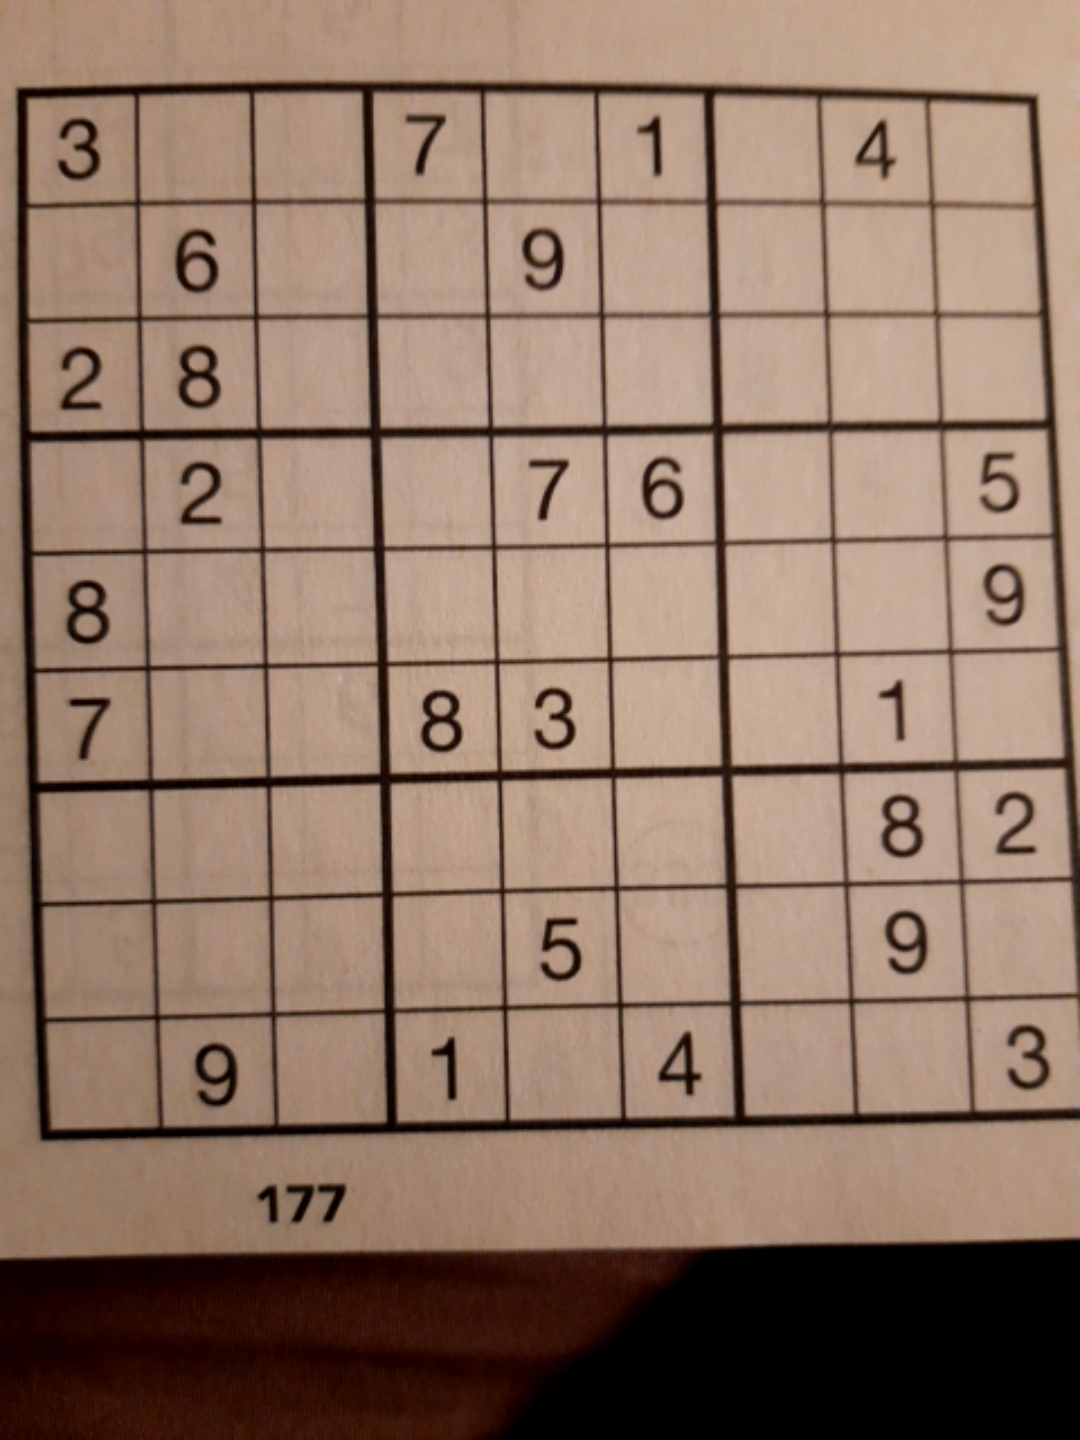sudoku: (10, 84, 1080, 1131)
